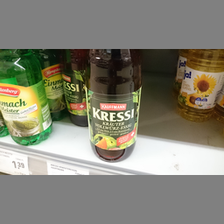vinegar: (86, 50, 143, 162), (1, 48, 53, 148), (179, 48, 221, 122)
